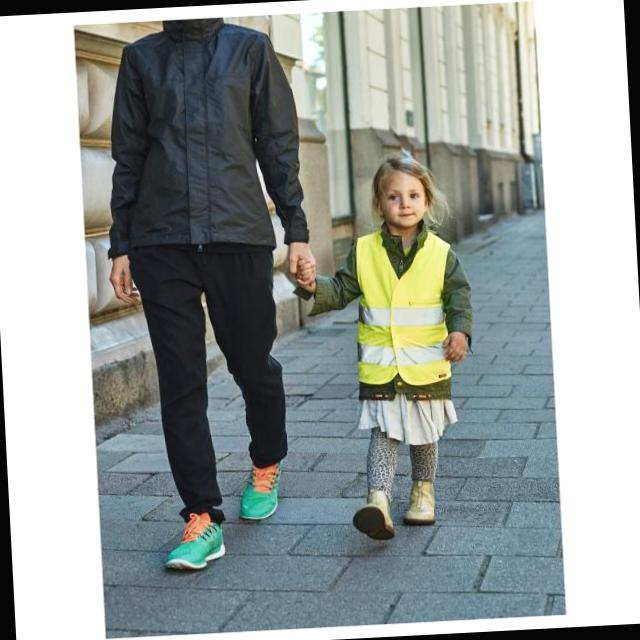vest: (349, 223, 466, 394)
